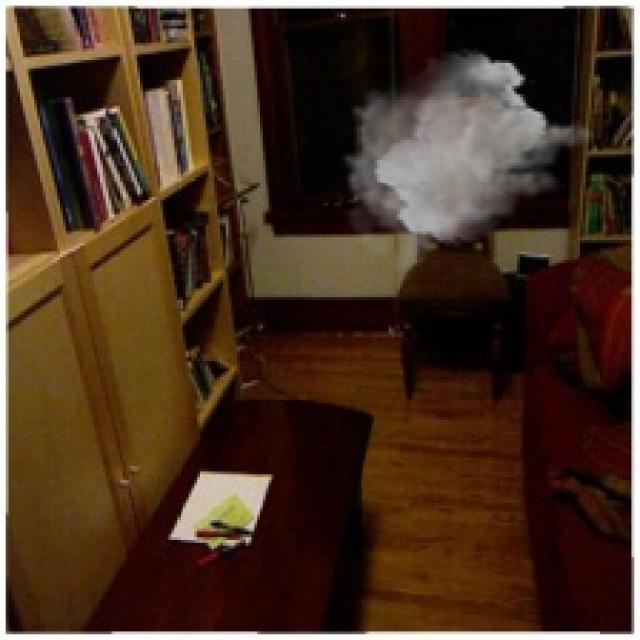smoke: (340, 49, 597, 274)
